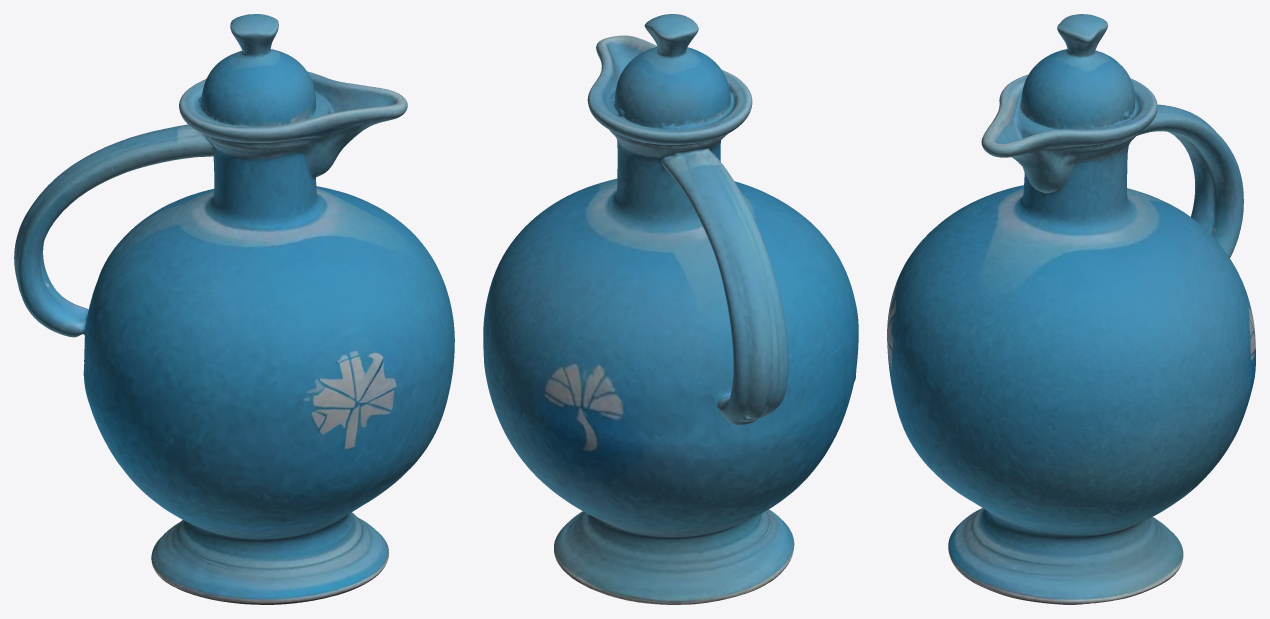
The model's file is 静物_瓶罐_turquoise_ceramic_jug_floral_motif_opt.glb.
The picture shows the model from 3 angles, left to right: view 1: azimuth 30°, elevation 25°; view 2: azimuth 150°, elevation 25°; view 3: azimuth 270°, elevation 25°; orthographic projection.
Parts seen in each view (by area): view 1: tripo_node_e98a3600_tripo_mat_e98a3600_0; view 2: tripo_node_e98a3600_tripo_mat_e98a3600_0; view 3: tripo_node_e98a3600_tripo_mat_e98a3600_0.
Boxes of the visible parts, left/top/right/bottom form: tripo_node_e98a3600_tripo_mat_e98a3600_0: left=14, top=14, right=454, bottom=604; tripo_node_e98a3600_tripo_mat_e98a3600_0: left=483, top=14, right=858, bottom=604; tripo_node_e98a3600_tripo_mat_e98a3600_0: left=887, top=14, right=1255, bottom=604.
Size of the model in its own units: 0.2001 by 0.3 by 0.1867.
1 material, 1 textured.
